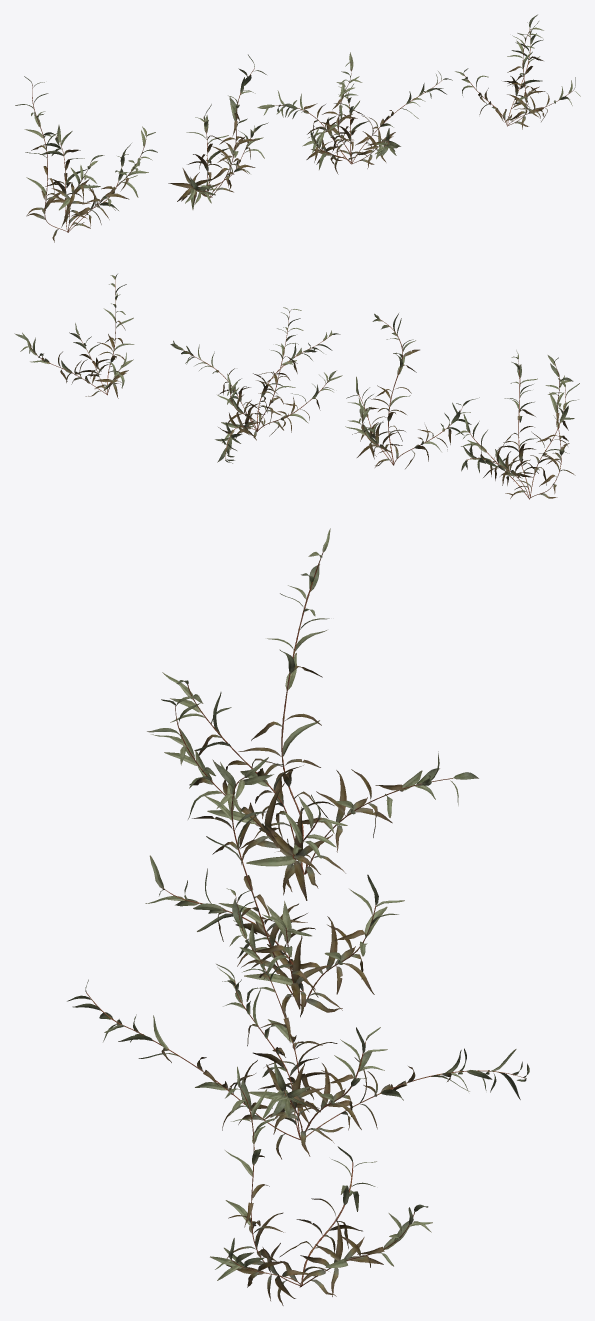
The model's file is shrub_02.glb.
3 renders of one model, top to bottom at view 1: azimuth 30°, elevation 25°; view 2: azimuth 150°, elevation 25°; view 3: azimuth 270°, elevation 25°, orthographic. The views are drawn at different scales.
Visible parts, largest first — view 1: shrub_02_c, shrub_02_a, shrub_02_b, shrub_02_d; view 2: shrub_02_a, shrub_02_c, shrub_02_b, shrub_02_d; view 3: shrub_02_a, shrub_02_c, shrub_02_b, shrub_02_d.
Boxes of the visible parts, left/top/right/bottom form: shrub_02_c: left=257, top=52, right=452, bottom=174; shrub_02_a: left=15, top=76, right=157, bottom=242; shrub_02_b: left=168, top=54, right=268, bottom=209; shrub_02_d: left=455, top=14, right=580, bottom=129; shrub_02_a: left=455, top=350, right=579, bottom=499; shrub_02_c: left=170, top=307, right=342, bottom=463; shrub_02_b: left=345, top=313, right=479, bottom=468; shrub_02_d: left=14, top=274, right=134, bottom=398; shrub_02_a: left=147, top=528, right=478, bottom=900; shrub_02_c: left=67, top=888, right=529, bottom=1159; shrub_02_b: left=145, top=757, right=404, bottom=1018; shrub_02_d: left=210, top=1066, right=432, bottom=1305.
Size of the model in its own units: 6.05 by 1.7 by 2.29.
Materials: 1 (1 with a texture image).
